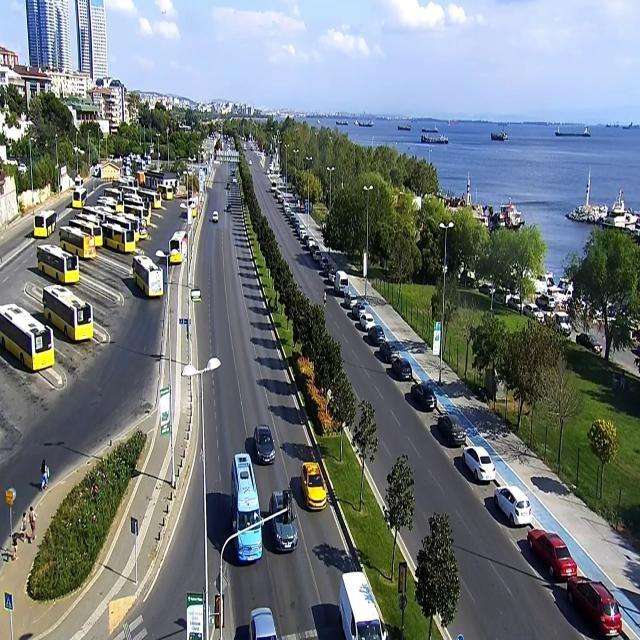Bus: (41, 283, 95, 342), (36, 242, 81, 284), (131, 254, 164, 300), (100, 223, 136, 253), (32, 209, 58, 238), (168, 230, 187, 266)
Car: (567, 577, 621, 636), (528, 529, 576, 580), (269, 491, 299, 551), (494, 485, 534, 526), (460, 444, 498, 486), (300, 462, 327, 509), (250, 606, 280, 640), (253, 424, 277, 464), (437, 414, 466, 444), (411, 382, 437, 409), (391, 355, 414, 380), (576, 333, 603, 353), (378, 340, 401, 362), (366, 325, 385, 345), (358, 311, 376, 331), (351, 300, 368, 318), (343, 291, 358, 310), (523, 303, 541, 318), (478, 284, 495, 296)
Van: (231, 452, 265, 564), (337, 572, 387, 638), (335, 269, 349, 294)
